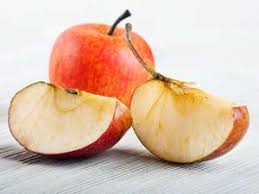apple: (51, 24, 157, 104)
damaged_apple: (10, 84, 133, 160), (138, 79, 249, 161)
